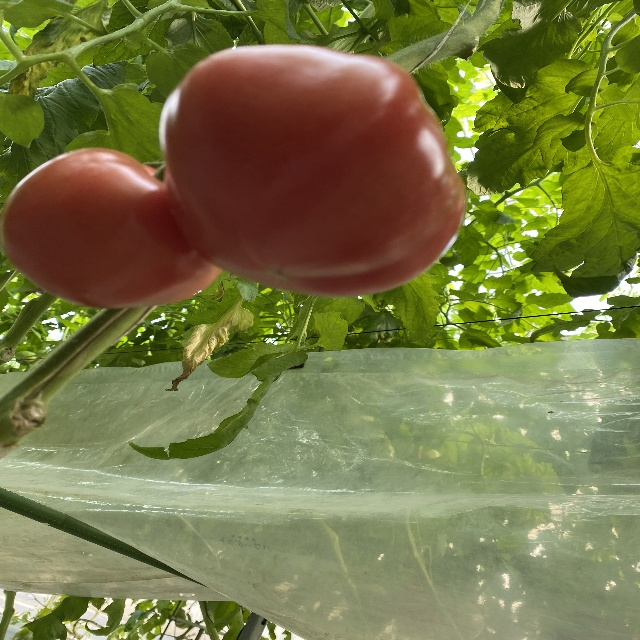b_fully_ripened: (158, 44, 465, 297), (2, 147, 223, 309)
